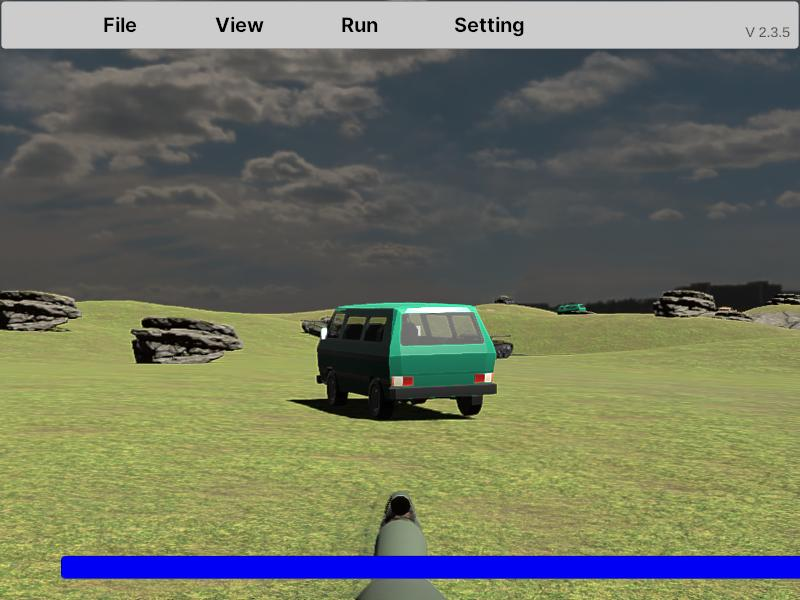car: (316, 304, 498, 420)
